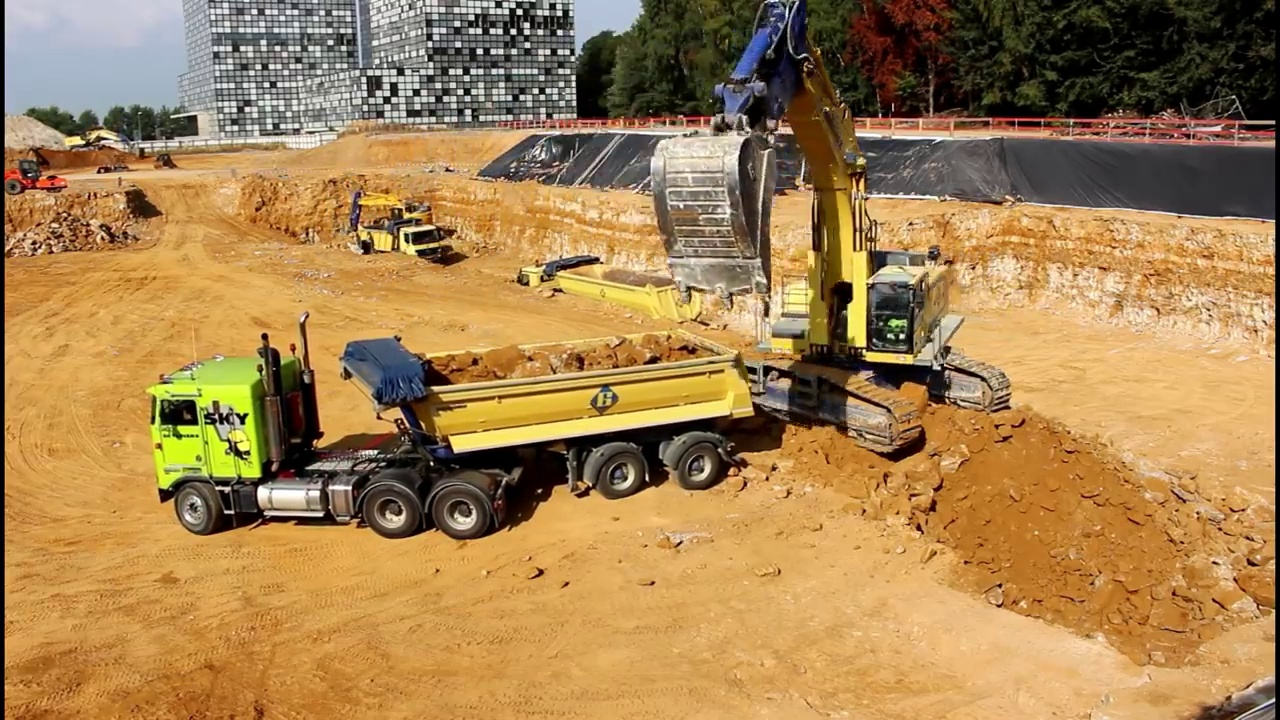compactor: (5, 159, 69, 199)
excavator: (646, 2, 1016, 461), (341, 186, 443, 250), (62, 128, 148, 165)
truck: (143, 310, 761, 540), (515, 252, 707, 358), (360, 216, 444, 274)
